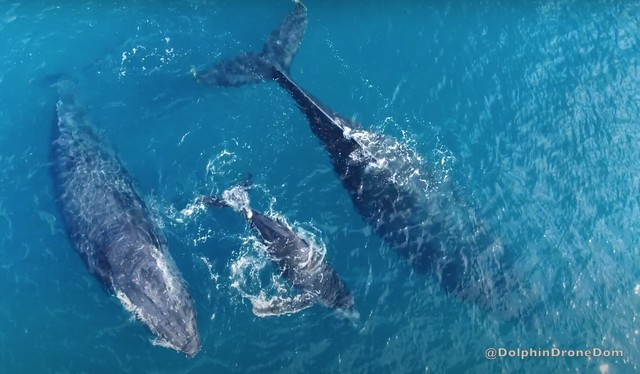whale: (185, 1, 528, 336), (21, 54, 213, 362), (195, 165, 373, 341)
